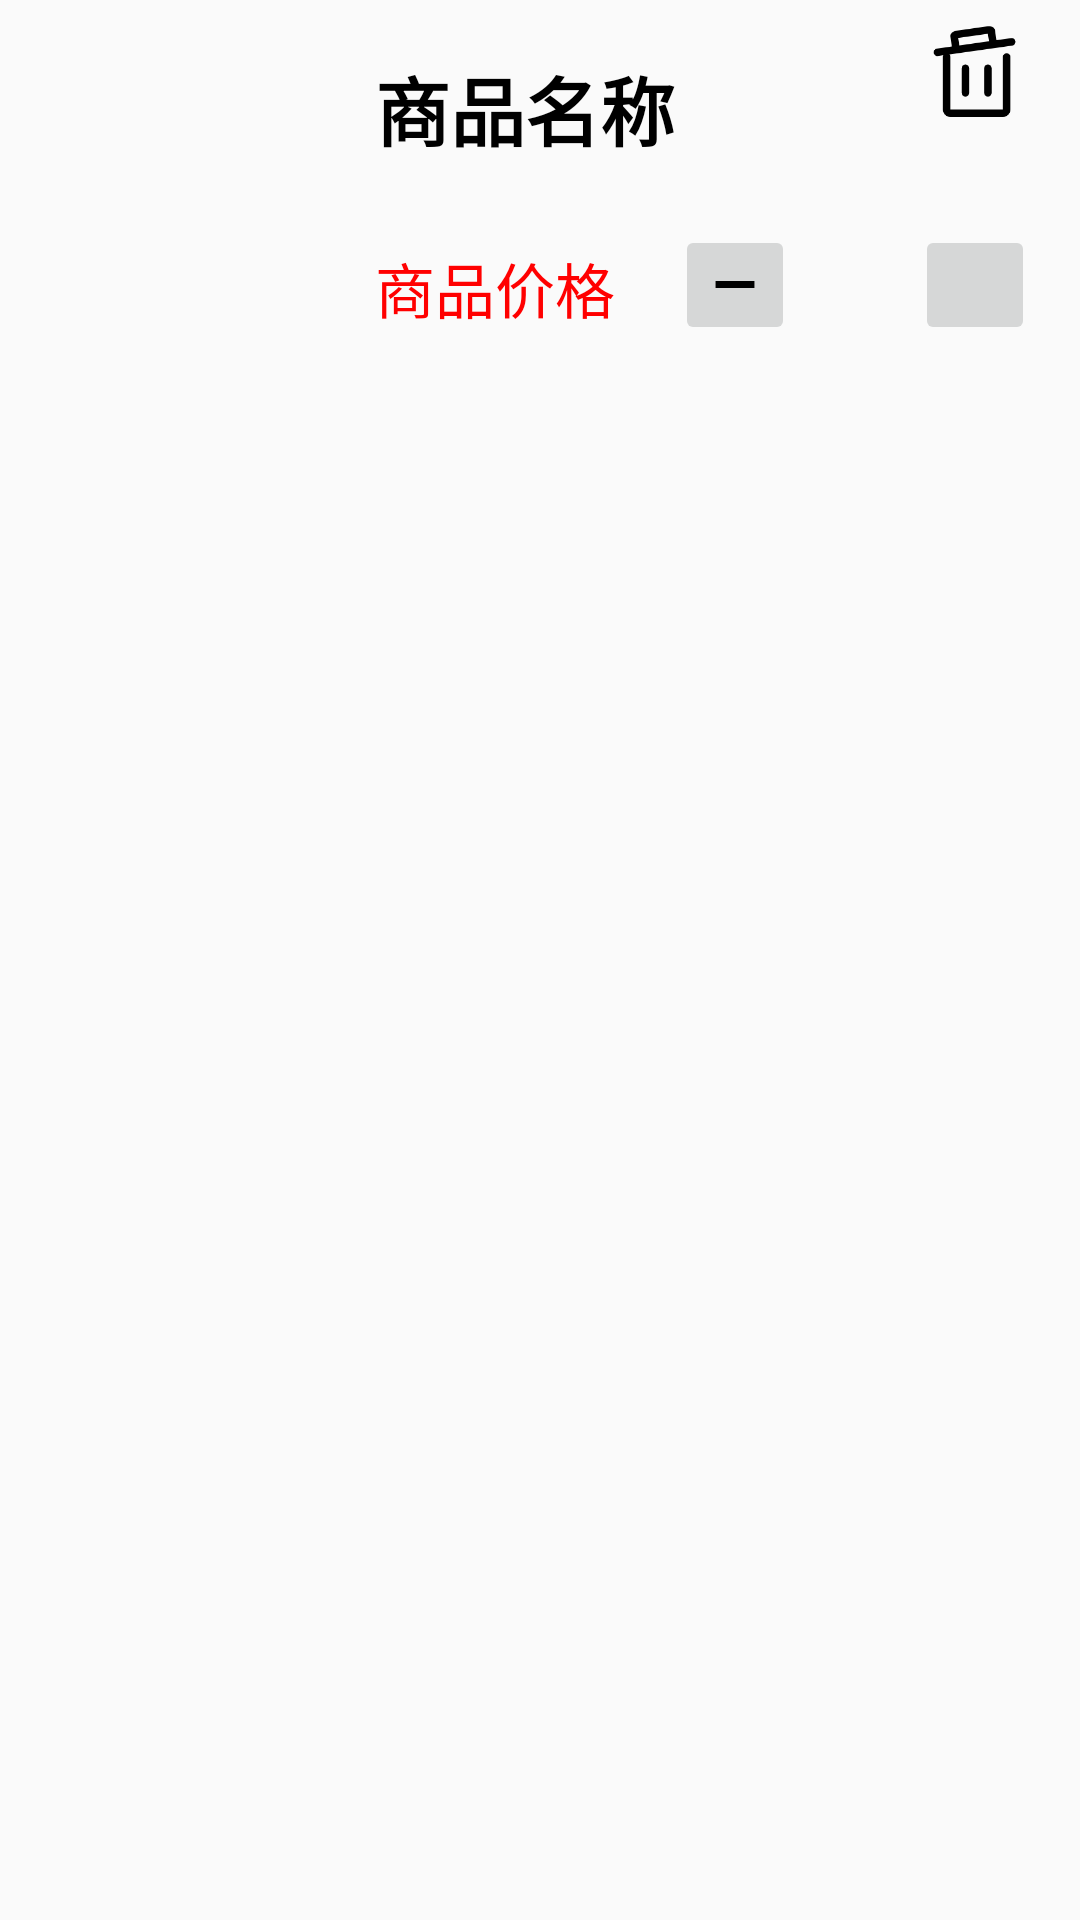

Icon click points for this 1080×1920 phone screenshot, format (x,y):
delete: (974,71)
reduce: (735,285)
